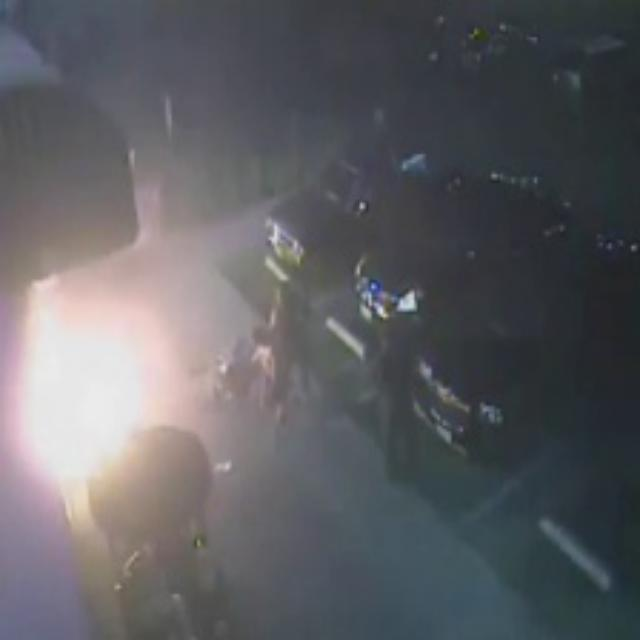fire: (19, 345, 144, 459)
smoke: (71, 8, 616, 288), (217, 314, 551, 610)
